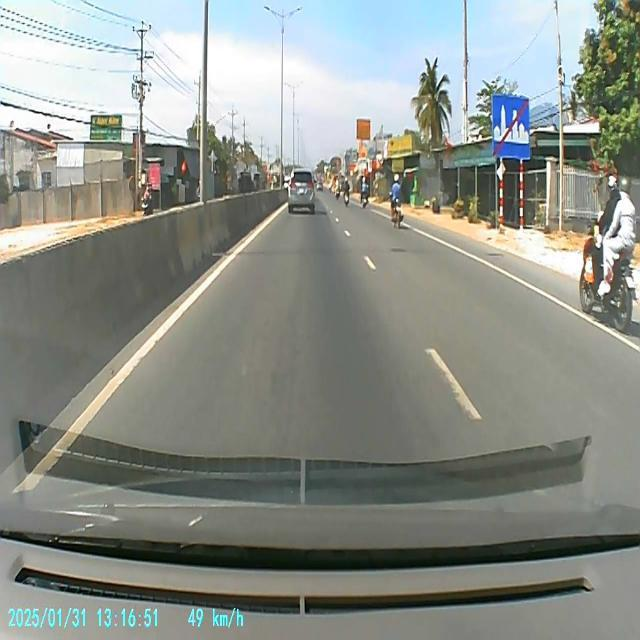421-ket-thuc-khu-dong-dan-cu: (492, 93, 532, 159)
